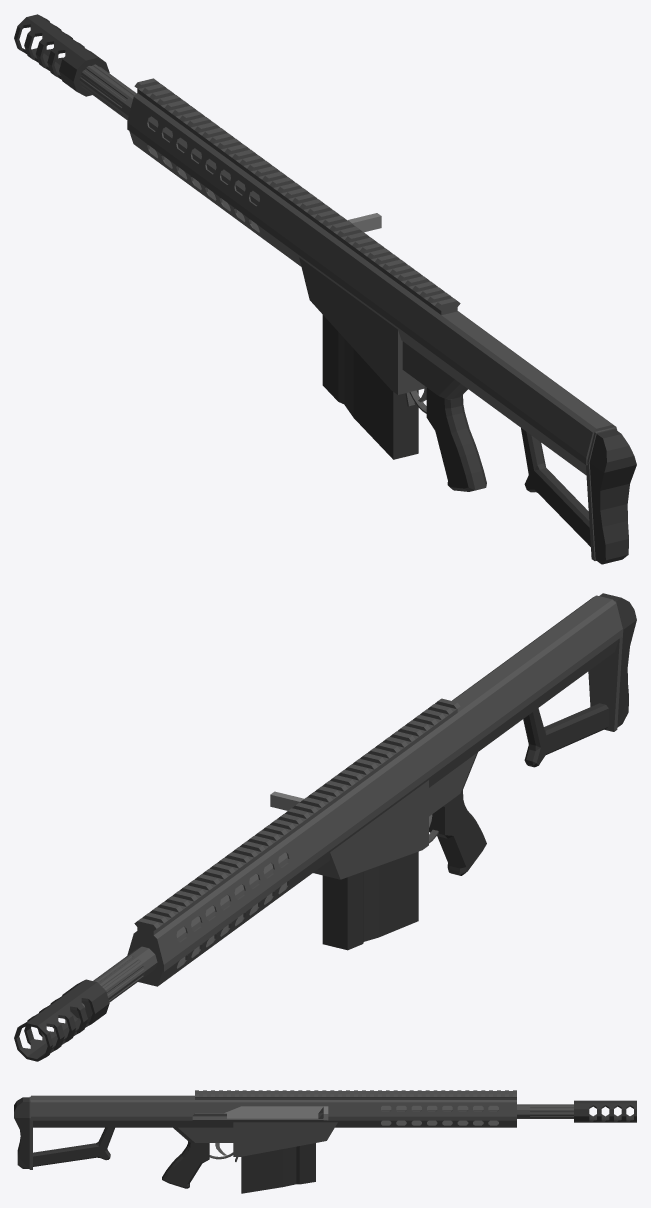
3 renders of one model, top to bottom at view 1: azimuth 30°, elevation 25°; view 2: azimuth 150°, elevation 25°; view 3: azimuth 270°, elevation 25°, orthographic. The views are drawn at different scales.
Visible parts, largest first — view 1: M107, Magazin; view 2: M107, Magazin; view 3: M107, Magazin, Bolt.
Part boxes in pixels (bbox=[...]): M107: bbox=[14, 14, 636, 564]; Magazin: bbox=[322, 315, 418, 459]; M107: bbox=[14, 593, 636, 1061]; Magazin: bbox=[322, 851, 418, 950]; M107: bbox=[14, 1090, 636, 1188]; Magazin: bbox=[241, 1143, 315, 1193]; Bolt: bbox=[193, 1106, 328, 1120].
Bounding box in the file's own units: 10.21 × 25.26 × 145.
1 material, 1 textured.
